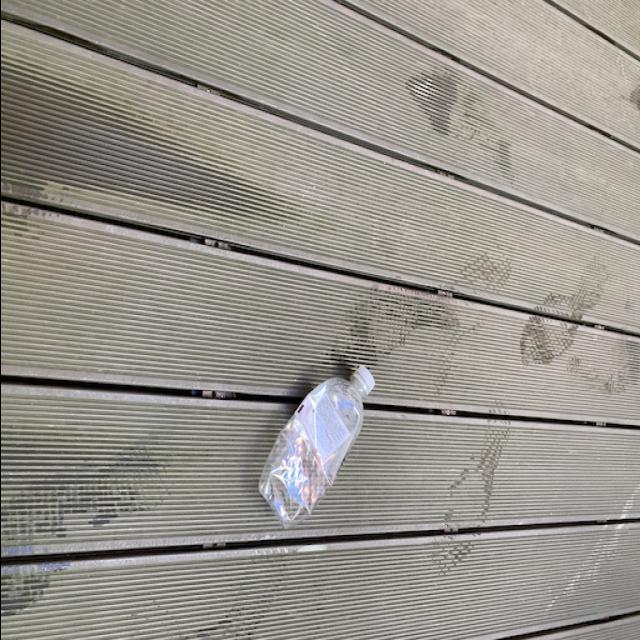PET: (255, 366, 382, 534)
